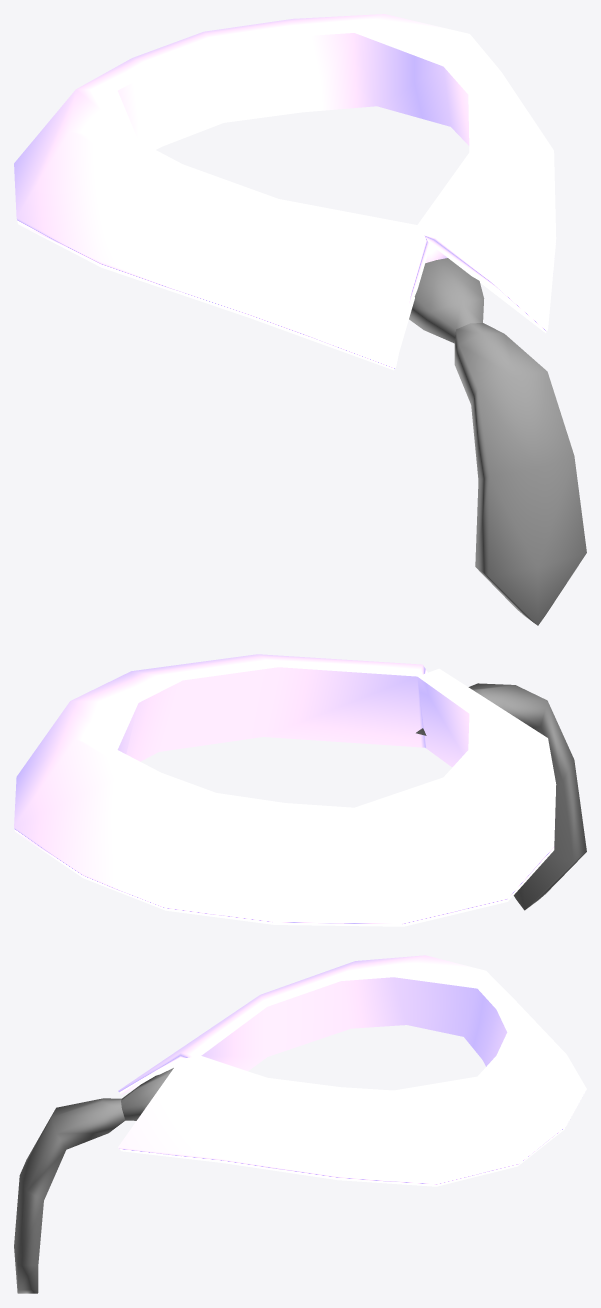
File: tie.fbx
3 renders of one model, top to bottom at view 1: azimuth 30°, elevation 25°; view 2: azimuth 150°, elevation 25°; view 3: azimuth 270°, elevation 25°, orthographic. The views are drawn at different scales.
Parts seen in each view (by area): view 1: tie; view 2: tie; view 3: tie.
Boxes of the visible parts, x1=… form: tie: x1=14, y1=14, x2=586, y2=625; tie: x1=14, y1=654, x2=586, y2=926; tie: x1=14, y1=955, x2=586, y2=1293.
Bounding box in the file's own units: 458 × 311 × 608.
